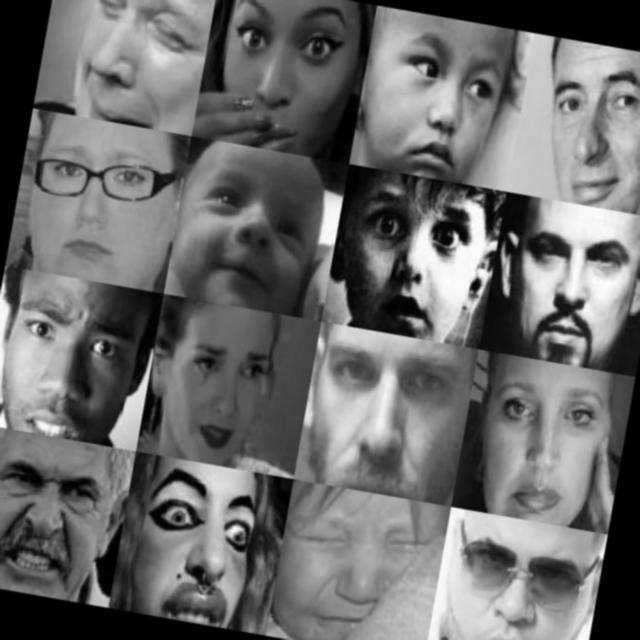angry: (12, 112, 186, 287), (113, 448, 260, 630), (0, 276, 151, 447), (0, 424, 123, 598), (427, 515, 596, 640)
fear: (332, 177, 482, 350), (209, 0, 363, 144)
happy: (172, 146, 332, 315), (526, 38, 640, 213)
neutral: (356, 16, 526, 192), (304, 328, 466, 496), (493, 198, 640, 357)
sad: (143, 296, 294, 470), (470, 358, 620, 526), (277, 481, 434, 640), (35, 0, 213, 132)
